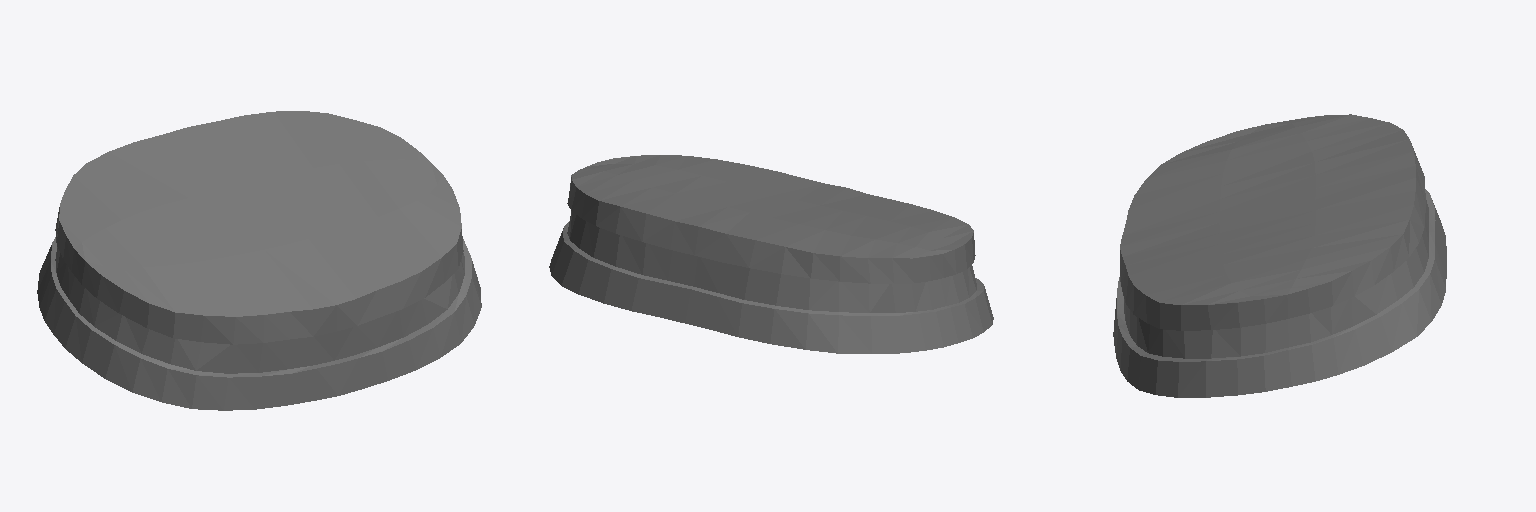
The model's file is LowPoly_Guarda_CintoParte01.obj.
3 views of the same model, side by side, from view 1: azimuth 30°, elevation 25°; view 2: azimuth 150°, elevation 25°; view 3: azimuth 270°, elevation 25° (orthographic).
Parts seen in each view (by area): view 1: LowPoly_Guarda_CintoParte01; view 2: LowPoly_Guarda_CintoParte01; view 3: LowPoly_Guarda_CintoParte01.
Part boxes in pixels (x1,y1,x2,y2): LowPoly_Guarda_CintoParte01: (37, 111, 481, 410); LowPoly_Guarda_CintoParte01: (549, 155, 993, 353); LowPoly_Guarda_CintoParte01: (1113, 114, 1446, 397).
Size of the model in its own units: 33.35 by 12.71 by 24.32.